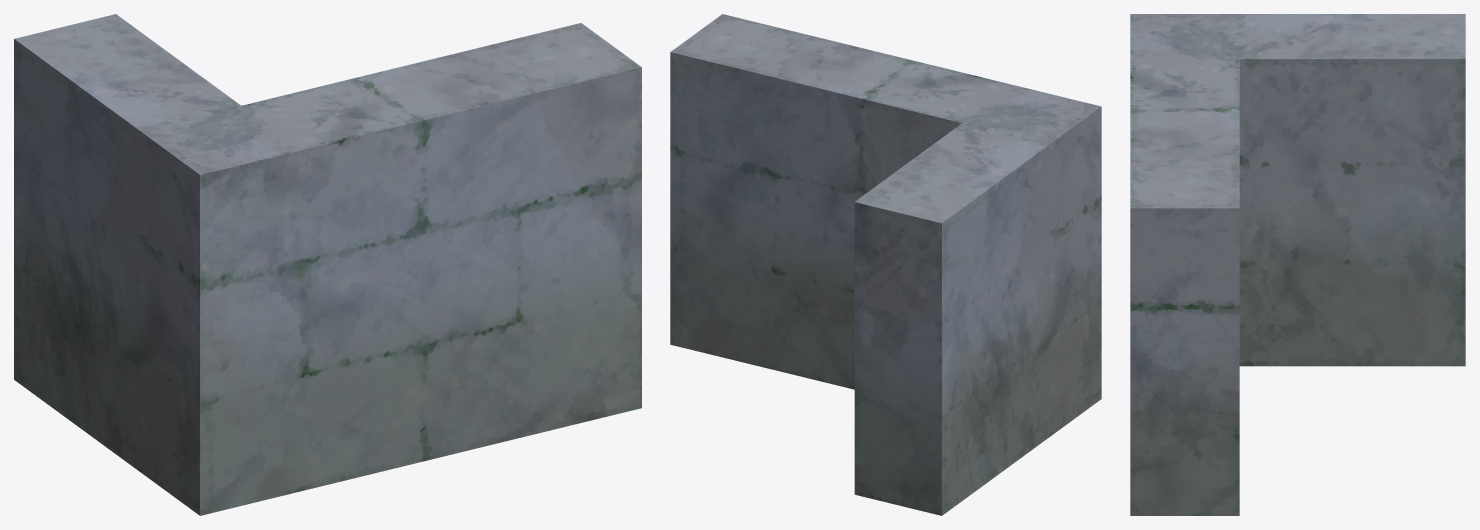
File: Wall_turn_NoDamage_Low.fbx
3 renders of one model, left to right at view 1: azimuth 30°, elevation 25°; view 2: azimuth 150°, elevation 25°; view 3: azimuth 270°, elevation 25°, orthographic. The views are drawn at different scales.
Parts seen in each view (by area): view 1: Wall_turn_NoDamage_Low; view 2: Wall_turn_NoDamage_Low; view 3: Wall_turn_NoDamage_Low.
Part boxes in pixels (box(x1,y1,x2,y2)): Wall_turn_NoDamage_Low: box(14, 14, 641, 515); Wall_turn_NoDamage_Low: box(670, 14, 1101, 515); Wall_turn_NoDamage_Low: box(1130, 14, 1465, 515).
Bounding box in the file's own units: 2.12 × 1.56 × 1.54.
